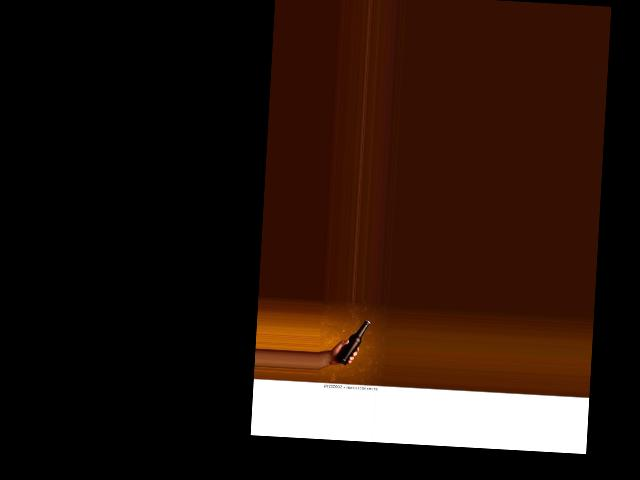beer: (333, 318, 370, 366)
